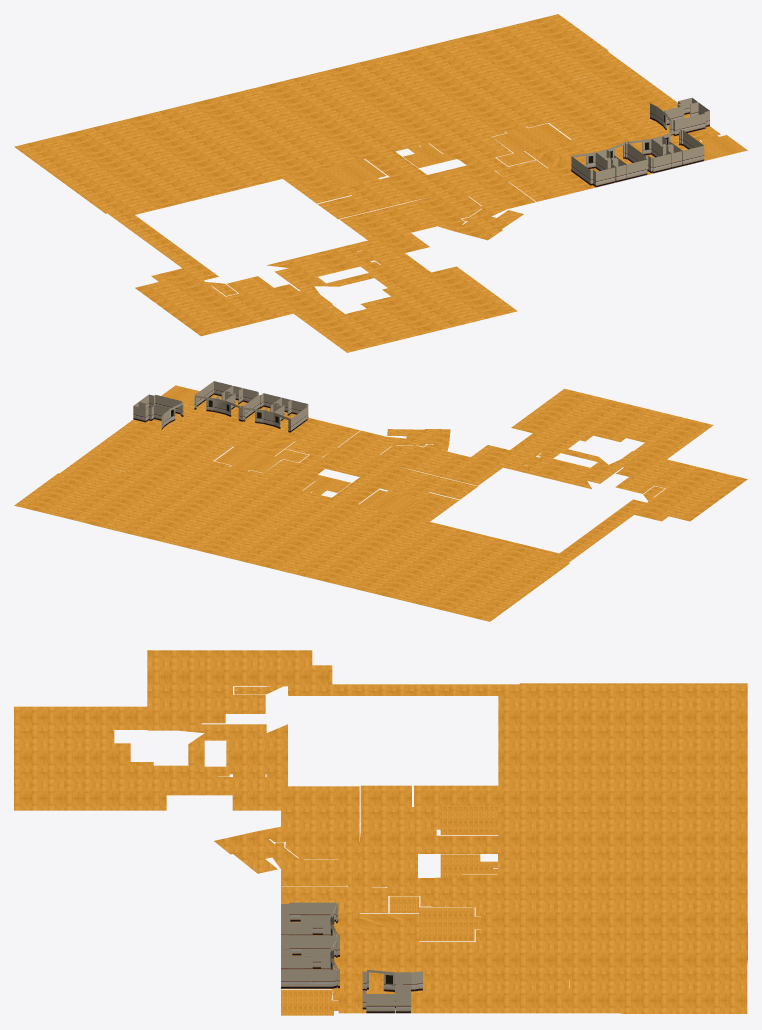
The model's file is APodWallsV2Left.fbx.
3 views of the same model, one above another, from view 1: azimuth 30°, elevation 25°; view 2: azimuth 150°, elevation 25°; view 3: azimuth 270°, elevation 25° (orthographic). The views are drawn at different scales.
Visible parts, largest first — view 1: polySurface351, polySurface375, polySurface387, polySurface355, polySurface357, polySurface359, polySurface383, polySurface372, polySurface363, polySurface361, polySurface364, polySurface370 (+16 smaller); view 2: polySurface351, polySurface375, polySurface387, polySurface355, polySurface357, polySurface359, polySurface383, polySurface372, polySurface363, polySurface377, polySurface361, polySurface364 (+17 smaller); view 3: polySurface351, polySurface375, polySurface387, polySurface355, polySurface357, polySurface359, polySurface383, polySurface372, polySurface363, polySurface361, polySurface364, polySurface370 (+19 smaller).
Part boxes in pixels (<box>): polySurface351: <box>30,50,442,209</box>; polySurface375: <box>408,14,657,107</box>; polySurface387: <box>356,75,577,174</box>; polySurface355: <box>525,88,720,168</box>; polySurface357: <box>294,297,458,352</box>; polySurface359: <box>135,268,332,335</box>; polySurface383: <box>374,260,517,336</box>; polySurface372: <box>107,152,364,280</box>; polySurface363: <box>339,186,535,246</box>; polySurface361: <box>151,267,298,313</box>; polySurface364: <box>363,196,482,252</box>; polySurface370: <box>267,240,395,286</box>; polySurface351: <box>145,492,555,618</box>; polySurface375: <box>14,441,213,537</box>; polySurface387: <box>164,450,370,528</box>; polySurface355: <box>104,405,294,460</box>; polySurface357: <box>576,406,713,459</box>; polySurface359: <box>587,451,747,521</box>; polySurface383: <box>511,388,656,449</box>; polySurface372: <box>351,499,646,562</box>; polySurface363: <box>350,429,510,485</box>; polySurface377: <box>196,394,360,457</box>; polySurface361: <box>615,467,706,521</box>; polySurface364: <box>380,444,509,477</box>; polySurface351: <box>519,693,747,922</box>; polySurface375: <box>495,923,747,1013</box>; polySurface387: <box>367,835,662,965</box>; polySurface355: <box>332,913,498,1013</box>; polySurface357: <box>14,706,147,781</box>; polySurface359: <box>147,650,312,733</box>; polySurface383: <box>14,746,217,810</box>; polySurface372: <box>288,684,519,835</box>; polySurface363: <box>214,786,359,886</box>; polySurface361: <box>201,665,332,723</box>; polySurface364: <box>232,795,338,859</box>; polySurface370: <box>188,724,287,786</box>.
Size of the model in its own units: 44.54 by 1.1 by 37.84.
Materials: 4 (2 with a texture image).
